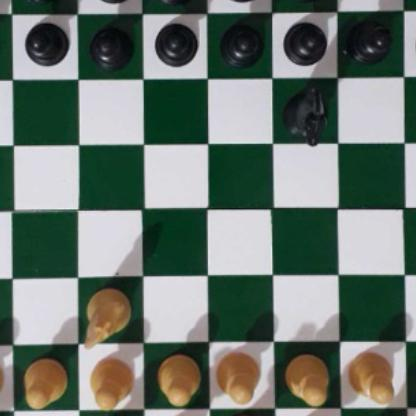black-bishop: (279, 0, 334, 0), (85, 0, 138, 0)
black-king: (215, 0, 271, 3)
black-knight: (282, 84, 327, 145), (17, 0, 62, 0)
black-pawn: (283, 17, 327, 66), (153, 17, 196, 66), (24, 18, 67, 66), (347, 17, 391, 63), (219, 18, 261, 66), (89, 21, 132, 67), (416, 18, 416, 67)
black-queen: (148, 0, 200, 2)
black-rook: (0, 0, 3, 2)
white-knight: (81, 283, 129, 345)
white-pawn: (346, 349, 396, 403), (213, 349, 261, 403), (284, 351, 331, 403), (21, 354, 67, 406), (88, 357, 133, 409), (155, 351, 198, 403), (0, 353, 3, 407)
